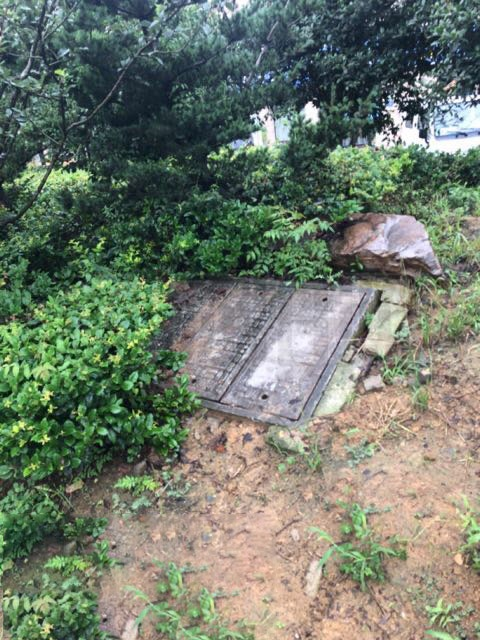good: (156, 271, 378, 426)
